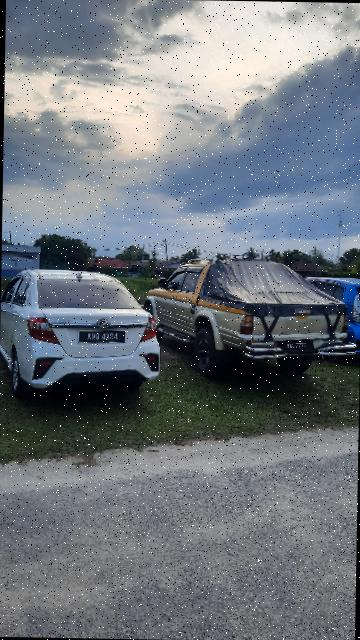License_Plate: (76, 326, 127, 345), (278, 340, 316, 354)
car: (144, 257, 360, 384), (1, 266, 169, 405)
